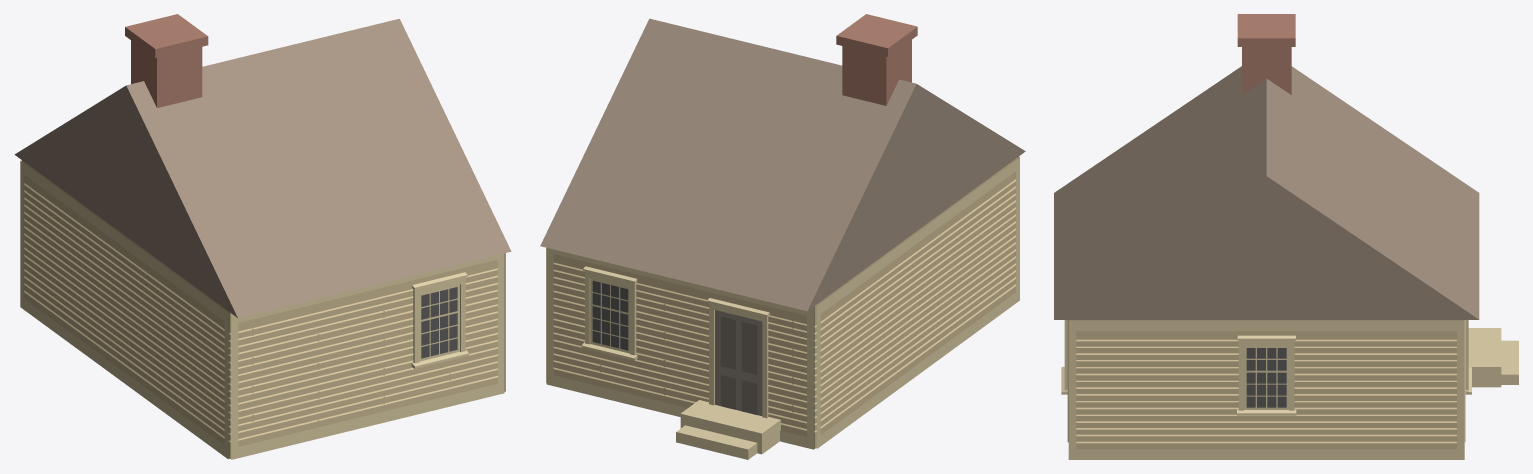
File: recon_1835_blk_south_water_franklin_d3_13__inferred_1835.glb
3 views of the same model, side by side, from view 1: azimuth 30°, elevation 25°; view 2: azimuth 150°, elevation 25°; view 3: azimuth 270°, elevation 25° (orthographic). The views are drawn at different scales.
Parts seen in each view (by area): view 1: recon_1835_blk_south_water_franklin_d3_13__inferred_1835; view 2: recon_1835_blk_south_water_franklin_d3_13__inferred_1835; view 3: recon_1835_blk_south_water_franklin_d3_13__inferred_1835.
Part boxes in pixels (<box>): recon_1835_blk_south_water_franklin_d3_13__inferred_1835: <box>14,14,511,459</box>; recon_1835_blk_south_water_franklin_d3_13__inferred_1835: <box>540,14,1025,459</box>; recon_1835_blk_south_water_franklin_d3_13__inferred_1835: <box>1054,14,1518,459</box>.
Size of the model in its own units: 5.24 by 6.06 by 7.87.
